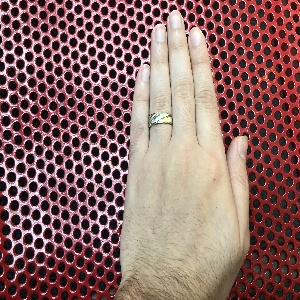hand: (121, 10, 250, 293)
